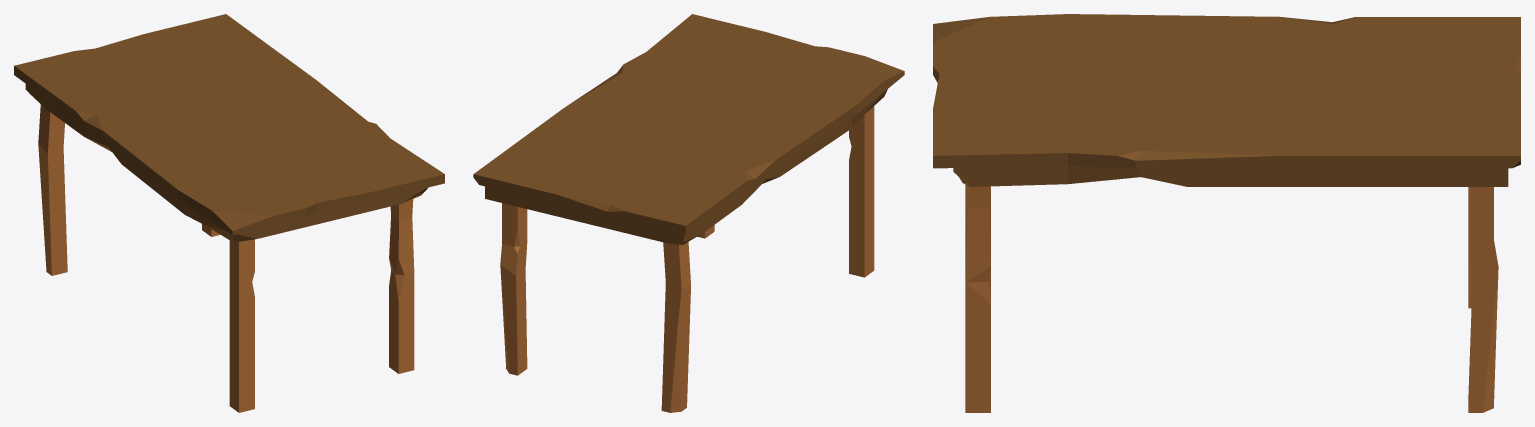
The model's file is study_table.fbx.
The picture shows the model from 3 angles, left to right: view 1: azimuth 30°, elevation 25°; view 2: azimuth 150°, elevation 25°; view 3: azimuth 270°, elevation 25°; orthographic projection. The views are drawn at different scales.
Parts seen in each view (by area): view 1: study_table; view 2: study_table; view 3: study_table.
Part boxes in pixels (x1,y1,x2,y2): study_table: (14,14,444,412); study_table: (473,14,904,412); study_table: (933,14,1520,412).
Size of the model in its own units: 0.9098 by 0.8051 by 1.59.
